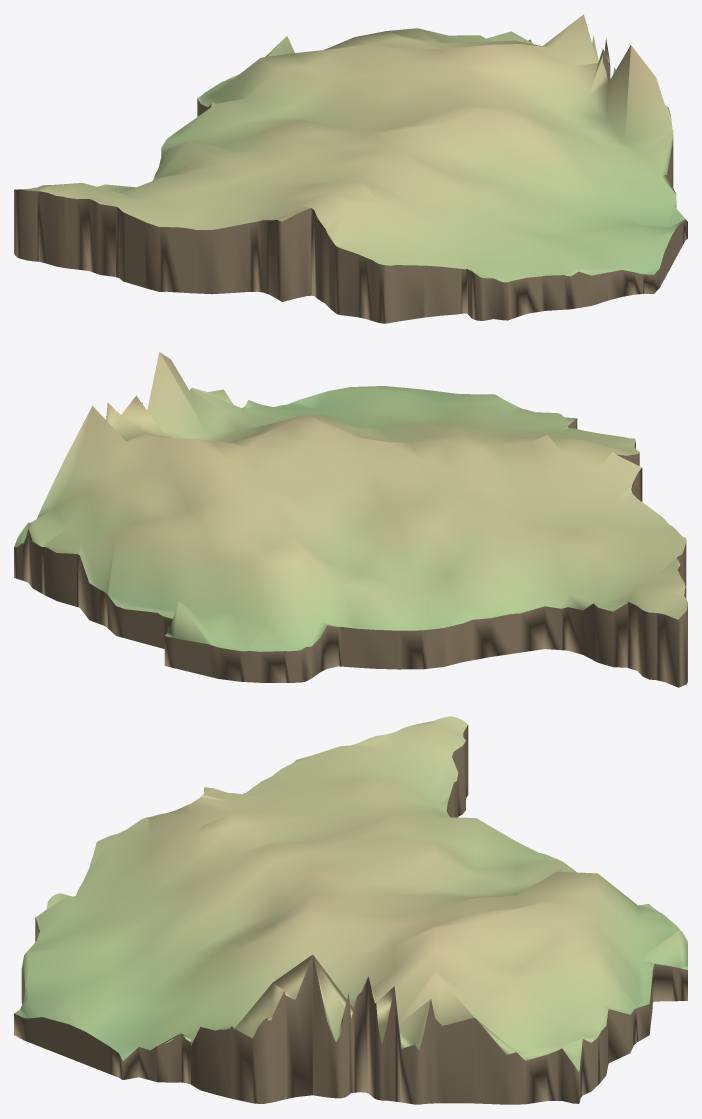
File: ZWE.glb
3 views of the same model, one above another, from view 1: azimuth 30°, elevation 25°; view 2: azimuth 150°, elevation 25°; view 3: azimuth 270°, elevation 25° (orthographic). The views are drawn at different scales.
Visible parts, largest first — view 1: ZWE; view 2: ZWE; view 3: ZWE.
Boxes of the visible parts, box(x1,y1,x2,y2) form: ZWE: box(14, 14, 687, 323); ZWE: box(14, 352, 687, 687); ZWE: box(14, 716, 687, 1104).
Bounding box in the file's own units: 1.6 × 0.338 × 1.47.
